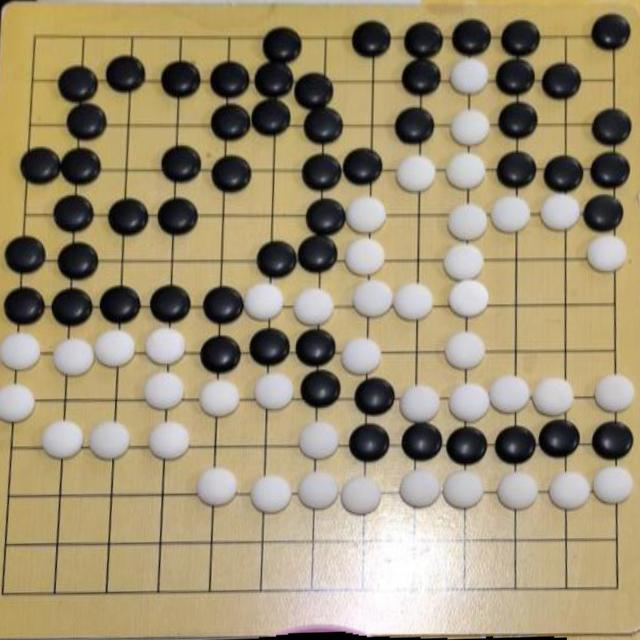blackstone: (538, 419, 581, 459), (494, 425, 537, 465), (401, 422, 443, 462), (446, 426, 488, 466), (51, 288, 94, 327), (100, 286, 142, 325), (300, 370, 342, 409), (5, 235, 47, 274), (4, 287, 46, 326), (583, 194, 625, 233), (592, 421, 634, 460), (202, 287, 245, 325), (349, 423, 390, 462), (150, 286, 192, 324), (248, 329, 290, 367), (200, 336, 242, 374), (496, 59, 536, 98), (296, 329, 337, 367), (58, 242, 99, 280), (354, 378, 395, 416), (60, 147, 101, 185), (496, 151, 536, 189), (67, 104, 107, 142), (20, 147, 60, 185), (108, 199, 149, 236), (158, 198, 199, 235), (54, 196, 95, 233), (211, 104, 252, 141), (298, 235, 338, 272), (302, 154, 342, 191), (343, 148, 383, 185), (212, 155, 252, 192), (498, 102, 538, 139), (304, 107, 344, 144), (252, 99, 292, 136), (590, 152, 630, 189), (592, 108, 632, 145), (58, 65, 98, 102), (591, 13, 631, 50), (256, 242, 297, 278), (105, 56, 146, 92), (161, 146, 201, 182), (395, 108, 435, 144), (544, 156, 584, 192), (542, 63, 582, 99), (210, 62, 250, 98), (161, 61, 201, 97), (254, 61, 294, 97), (404, 22, 444, 58), (452, 19, 492, 55), (352, 21, 392, 57), (306, 198, 345, 234), (402, 59, 441, 95), (294, 73, 334, 108), (502, 20, 540, 56), (263, 27, 302, 62)
whitestone: (399, 468, 442, 510), (532, 377, 575, 418), (340, 475, 382, 516), (548, 471, 590, 512), (448, 383, 491, 423), (442, 470, 485, 510), (496, 471, 539, 511), (42, 420, 85, 460), (298, 470, 339, 511), (399, 384, 441, 424), (298, 420, 340, 460), (199, 378, 241, 418), (488, 374, 530, 414), (94, 328, 136, 368), (53, 337, 95, 377), (89, 420, 131, 460), (250, 474, 292, 514), (196, 468, 238, 508), (594, 374, 636, 414), (592, 465, 634, 505), (1, 331, 41, 372), (443, 243, 485, 282), (294, 287, 335, 326), (144, 372, 185, 411), (445, 331, 486, 370), (145, 327, 186, 366), (149, 421, 190, 460), (254, 372, 295, 410), (448, 280, 489, 318), (344, 238, 385, 276), (243, 283, 284, 321), (540, 194, 581, 232), (586, 234, 627, 272), (394, 283, 434, 321), (353, 280, 393, 318), (491, 195, 531, 233), (446, 152, 486, 190), (396, 154, 436, 192), (450, 57, 490, 95), (341, 338, 383, 374), (448, 203, 488, 240), (346, 196, 386, 233), (450, 108, 490, 145), (0, 383, 35, 422)
